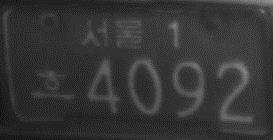0: (125, 58, 163, 115)
1: (164, 18, 183, 51)
2: (215, 60, 255, 126)
4: (85, 56, 121, 116)
9: (171, 60, 206, 120)
서울_O: (79, 16, 144, 53)
흐: (27, 68, 78, 102)
